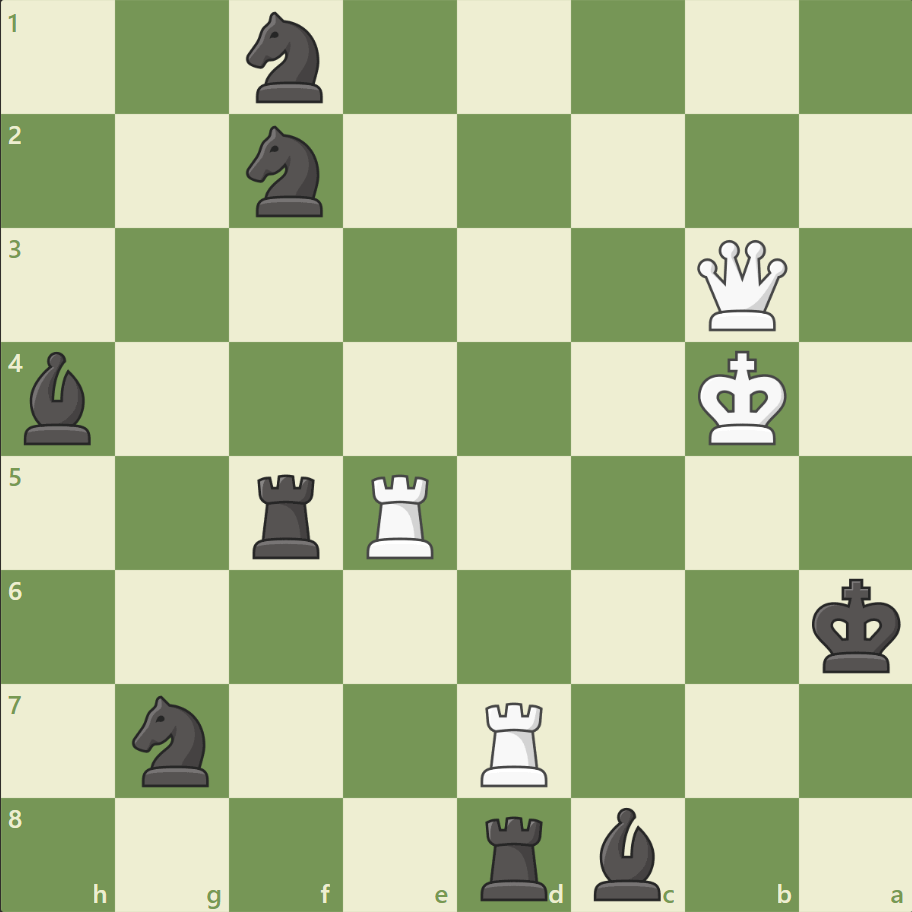K: (692, 344, 792, 452)
Q: (691, 236, 790, 335)
R: (473, 693, 556, 790), (360, 466, 442, 563)
b: (585, 801, 669, 904), (17, 347, 101, 449)
k: (806, 571, 906, 679)
n: (124, 688, 222, 791), (238, 7, 335, 110), (238, 121, 335, 223)
r: (473, 806, 556, 904), (246, 466, 329, 563)
